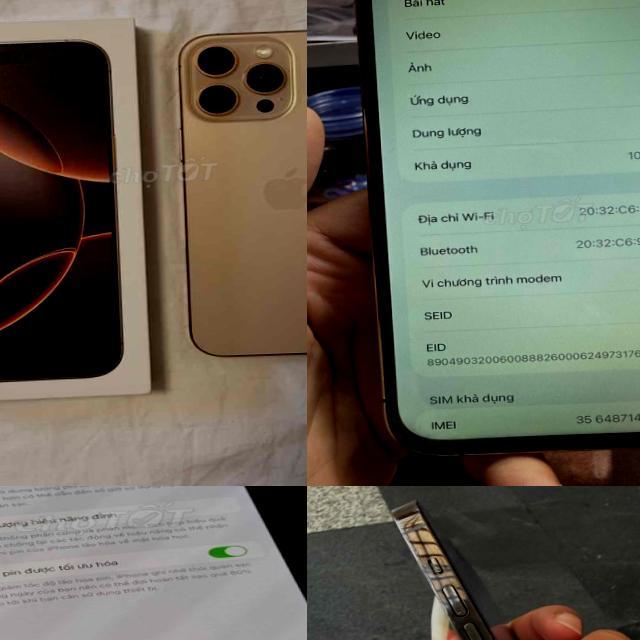gen_12_13: (335, 0, 640, 464), (0, 486, 307, 640)
gen_14: (386, 486, 640, 640)
gen_16: (160, 15, 307, 366)
